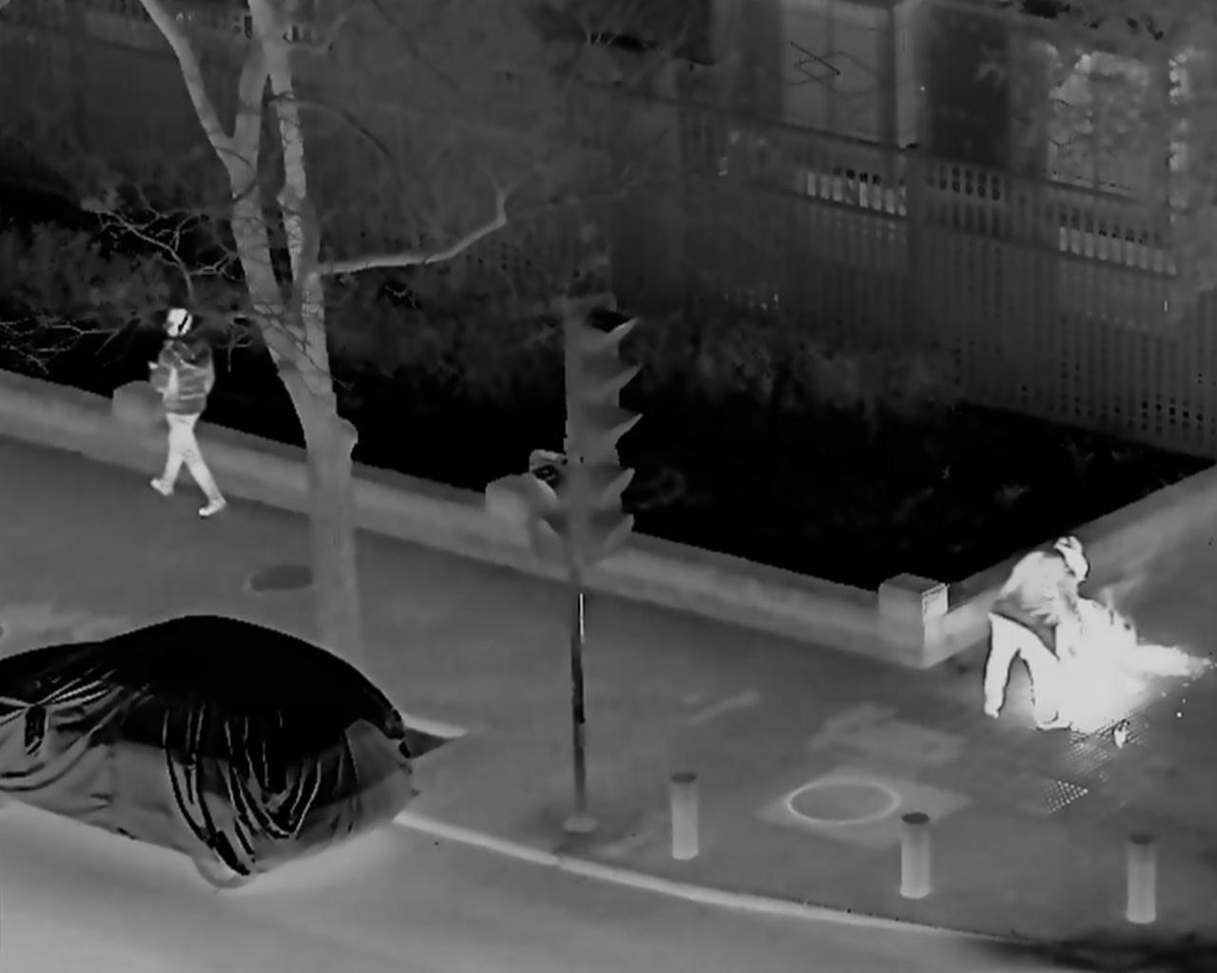person: (983, 535, 1083, 732), (145, 305, 224, 516)
